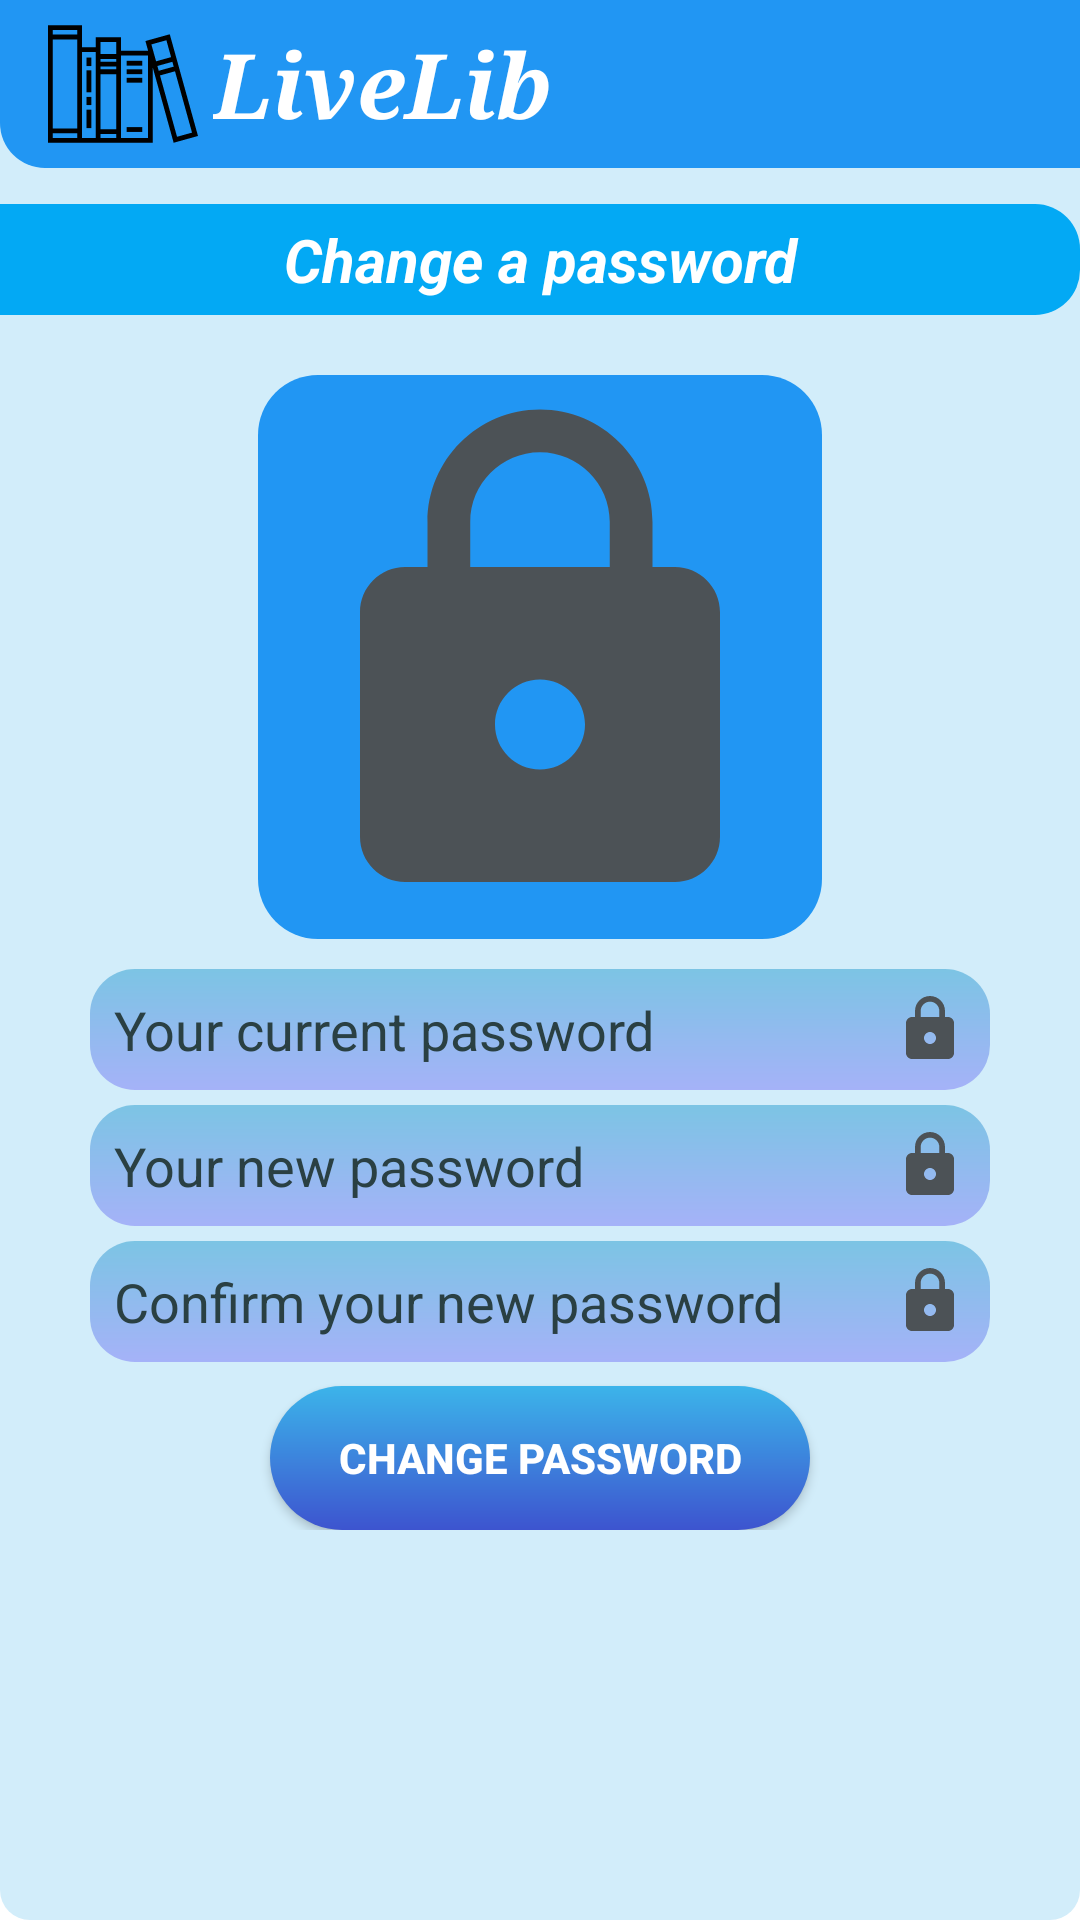

Icon bounding boxes for this 1080×1920 phone screenshot, format (x1, y1, x2, y2):
books: (48, 25, 198, 143)
